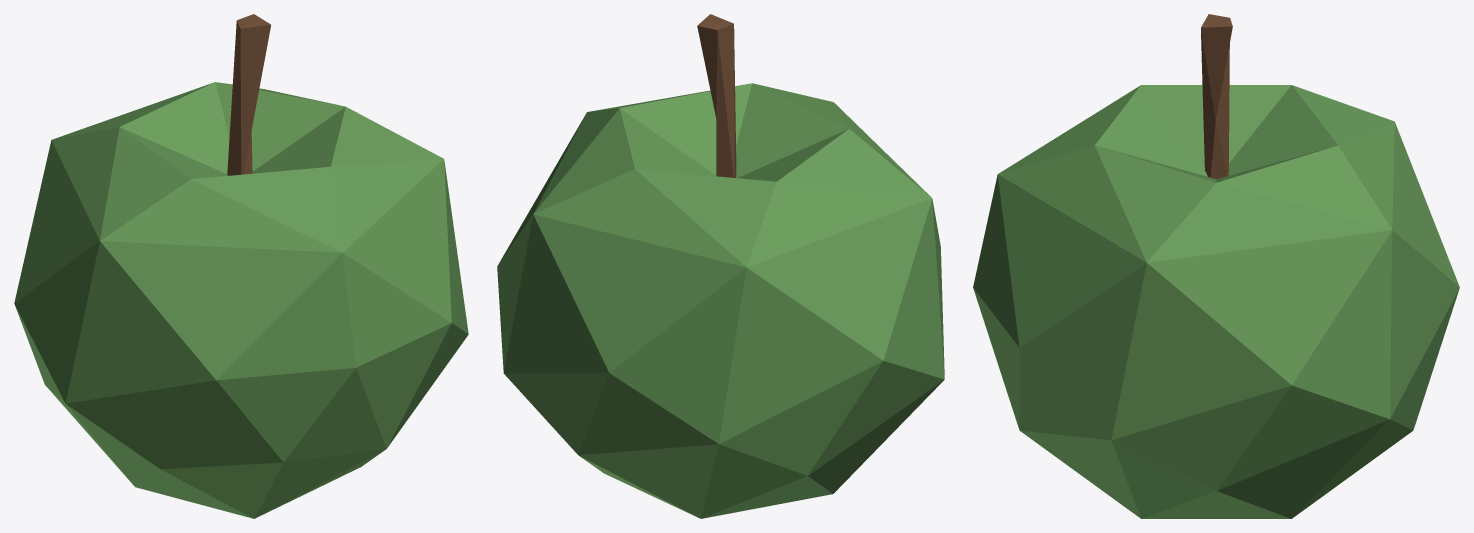
File: Mesh_Plants_Apple_01.FBX
The picture shows the model from 3 angles, left to right: view 1: azimuth 30°, elevation 25°; view 2: azimuth 150°, elevation 25°; view 3: azimuth 270°, elevation 25°; orthographic projection. The views are drawn at different scales.
Visible parts, largest first — view 1: Mesh_Plants_Apple_01; view 2: Mesh_Plants_Apple_01; view 3: Mesh_Plants_Apple_01.
Part boxes in pixels (<box>): Mesh_Plants_Apple_01: <box>14,14,468,518</box>; Mesh_Plants_Apple_01: <box>497,14,944,518</box>; Mesh_Plants_Apple_01: <box>973,14,1459,518</box>.
Size of what is drawn, in the model's own units: 15.76 by 16.38 by 18.23.
